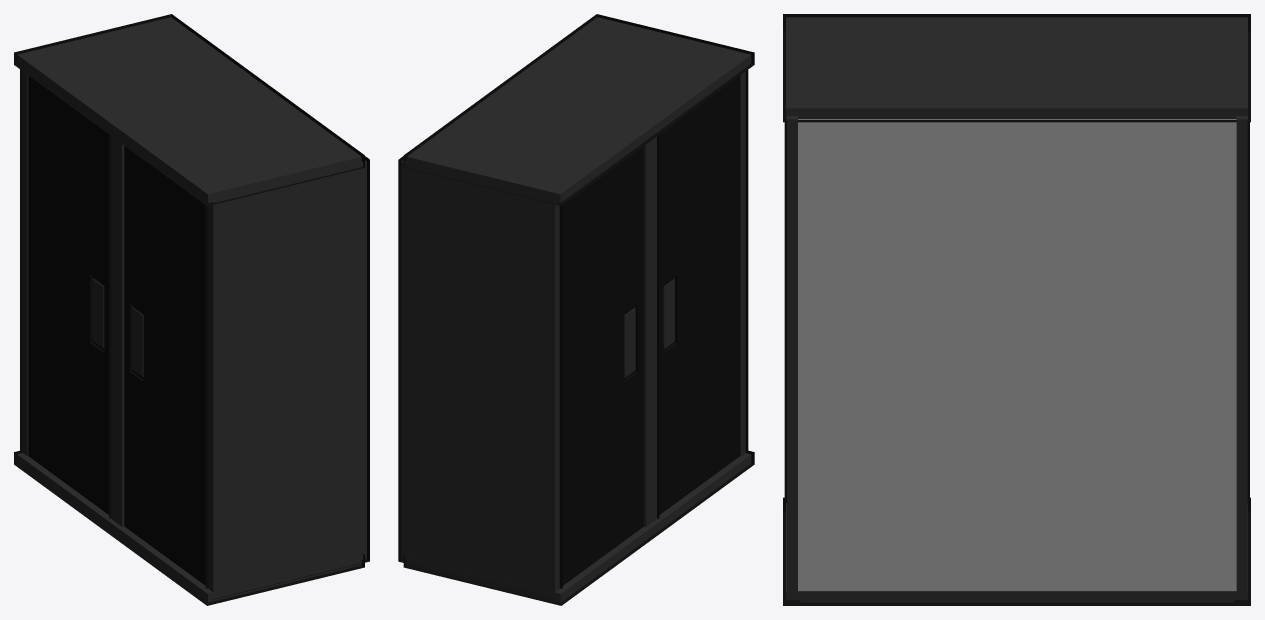
File: shelf2.FBX
The picture shows the model from 3 angles, left to right: view 1: azimuth 30°, elevation 25°; view 2: azimuth 150°, elevation 25°; view 3: azimuth 270°, elevation 25°; orthographic projection. The views are drawn at different scales.
Parts seen in each view (by area): view 1: shelf2, shelf2glass; view 2: shelf2, shelf2glass; view 3: shelf2.
Part boxes in pixels (x1,y1,x2,y2): shelf2: (14, 14, 369, 605); shelf2glass: (28, 75, 205, 585); shelf2: (398, 14, 754, 605); shelf2glass: (562, 76, 739, 585); shelf2: (783, 14, 1250, 605).
Size of the model in its own units: 1.49 by 3.6 by 3.06.
